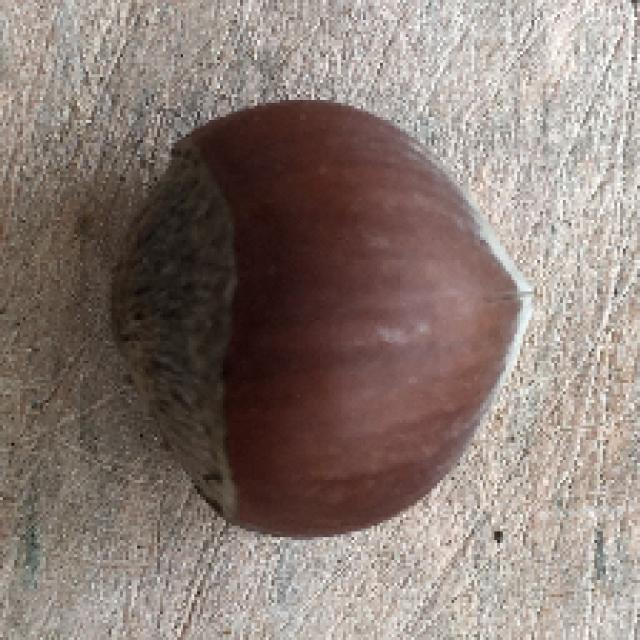damagedHazelnut: (93, 85, 550, 539)
